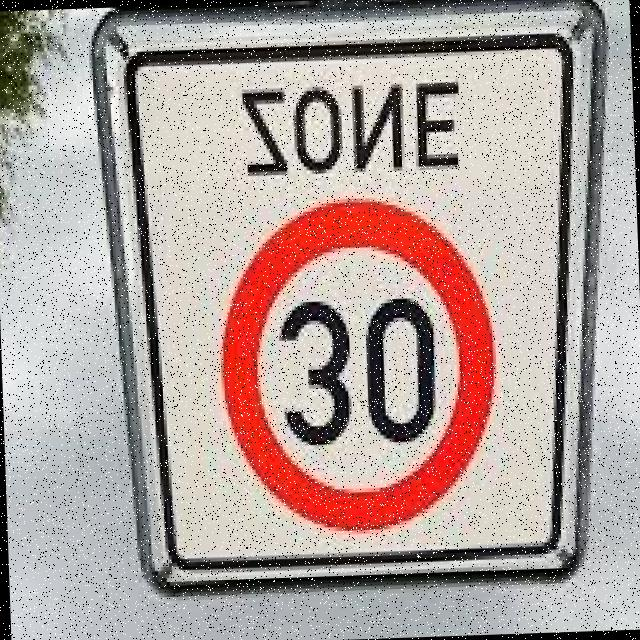speed_limit_30: (210, 192, 515, 543)
